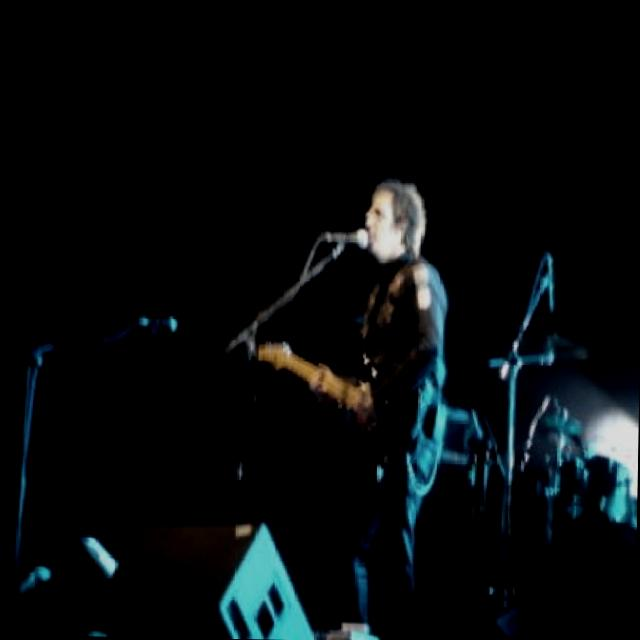Person: (305, 167, 459, 564)
